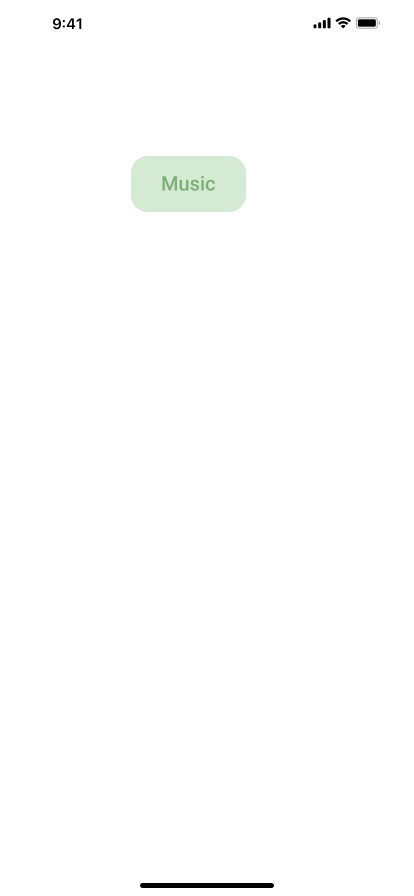Buttons: (131, 156, 254, 212)
Home Indicator: (0, 862, 414, 896)
Status Bar: (0, 0, 414, 44)
